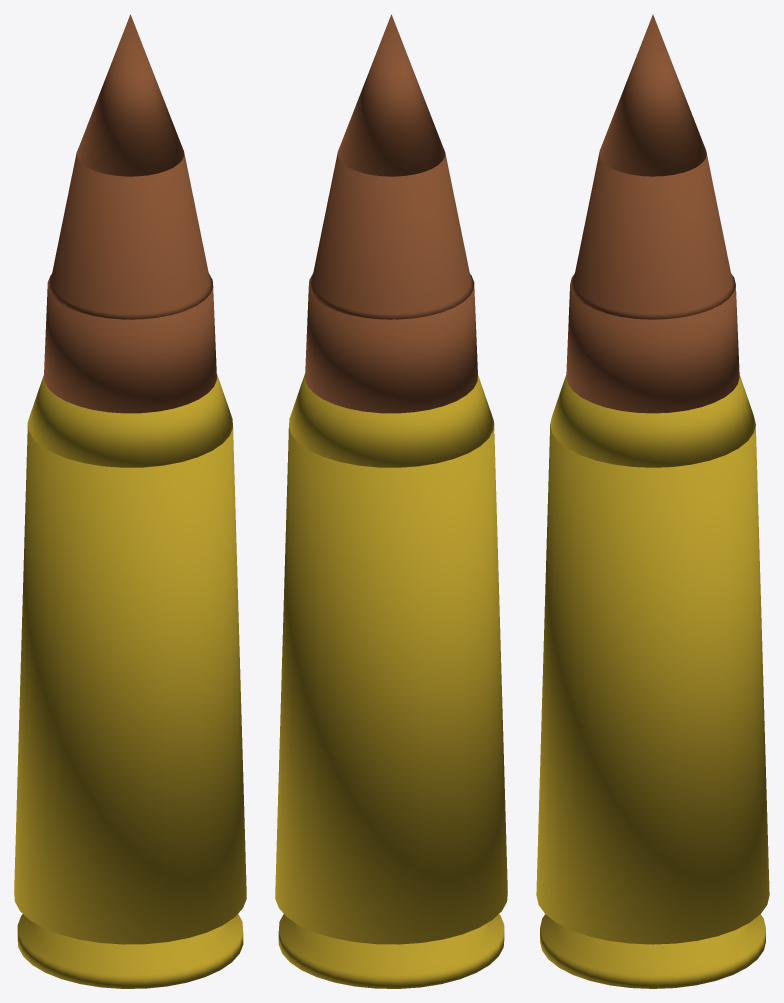
Rendered from Bullet.fbx.
3 views of the same model, side by side, from view 1: azimuth 30°, elevation 25°; view 2: azimuth 150°, elevation 25°; view 3: azimuth 270°, elevation 25° (orthographic).
Visible parts, largest first — view 1: Cylinder.003, Cone, Cylinder.005; view 2: Cylinder.003, Cone, Cylinder.005; view 3: Cylinder.003, Cone, Cylinder.005.
Part boxes in pixels (left/top/right/bottom): Cylinder.003: left=14, top=373, right=246, bottom=944; Cone: left=44, top=14, right=216, bottom=413; Cylinder.005: left=17, top=914, right=243, bottom=988; Cylinder.003: left=275, top=373, right=507, bottom=944; Cone: left=305, top=14, right=477, bottom=413; Cylinder.005: left=278, top=914, right=504, bottom=988; Cylinder.003: left=536, top=375, right=769, bottom=944; Cone: left=566, top=14, right=739, bottom=413; Cylinder.005: left=540, top=914, right=765, bottom=988.
Size of the model in its own units: 170 by 746 by 170.
